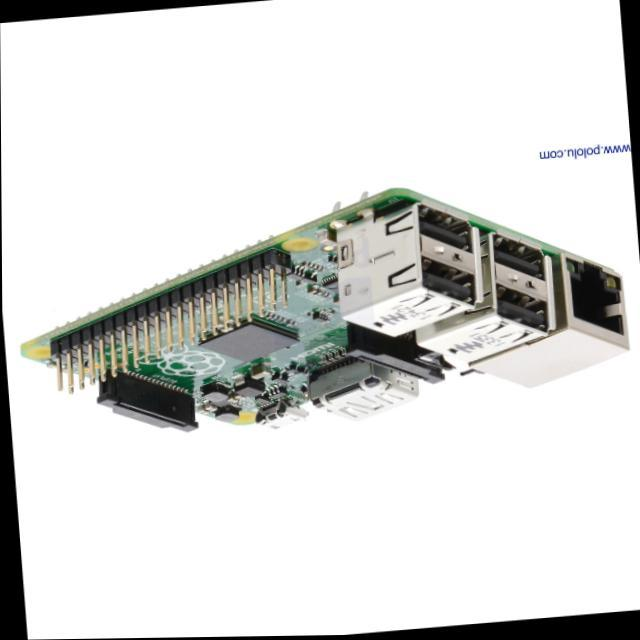Raspberry Pi 1 B-: (22, 190, 629, 432)
